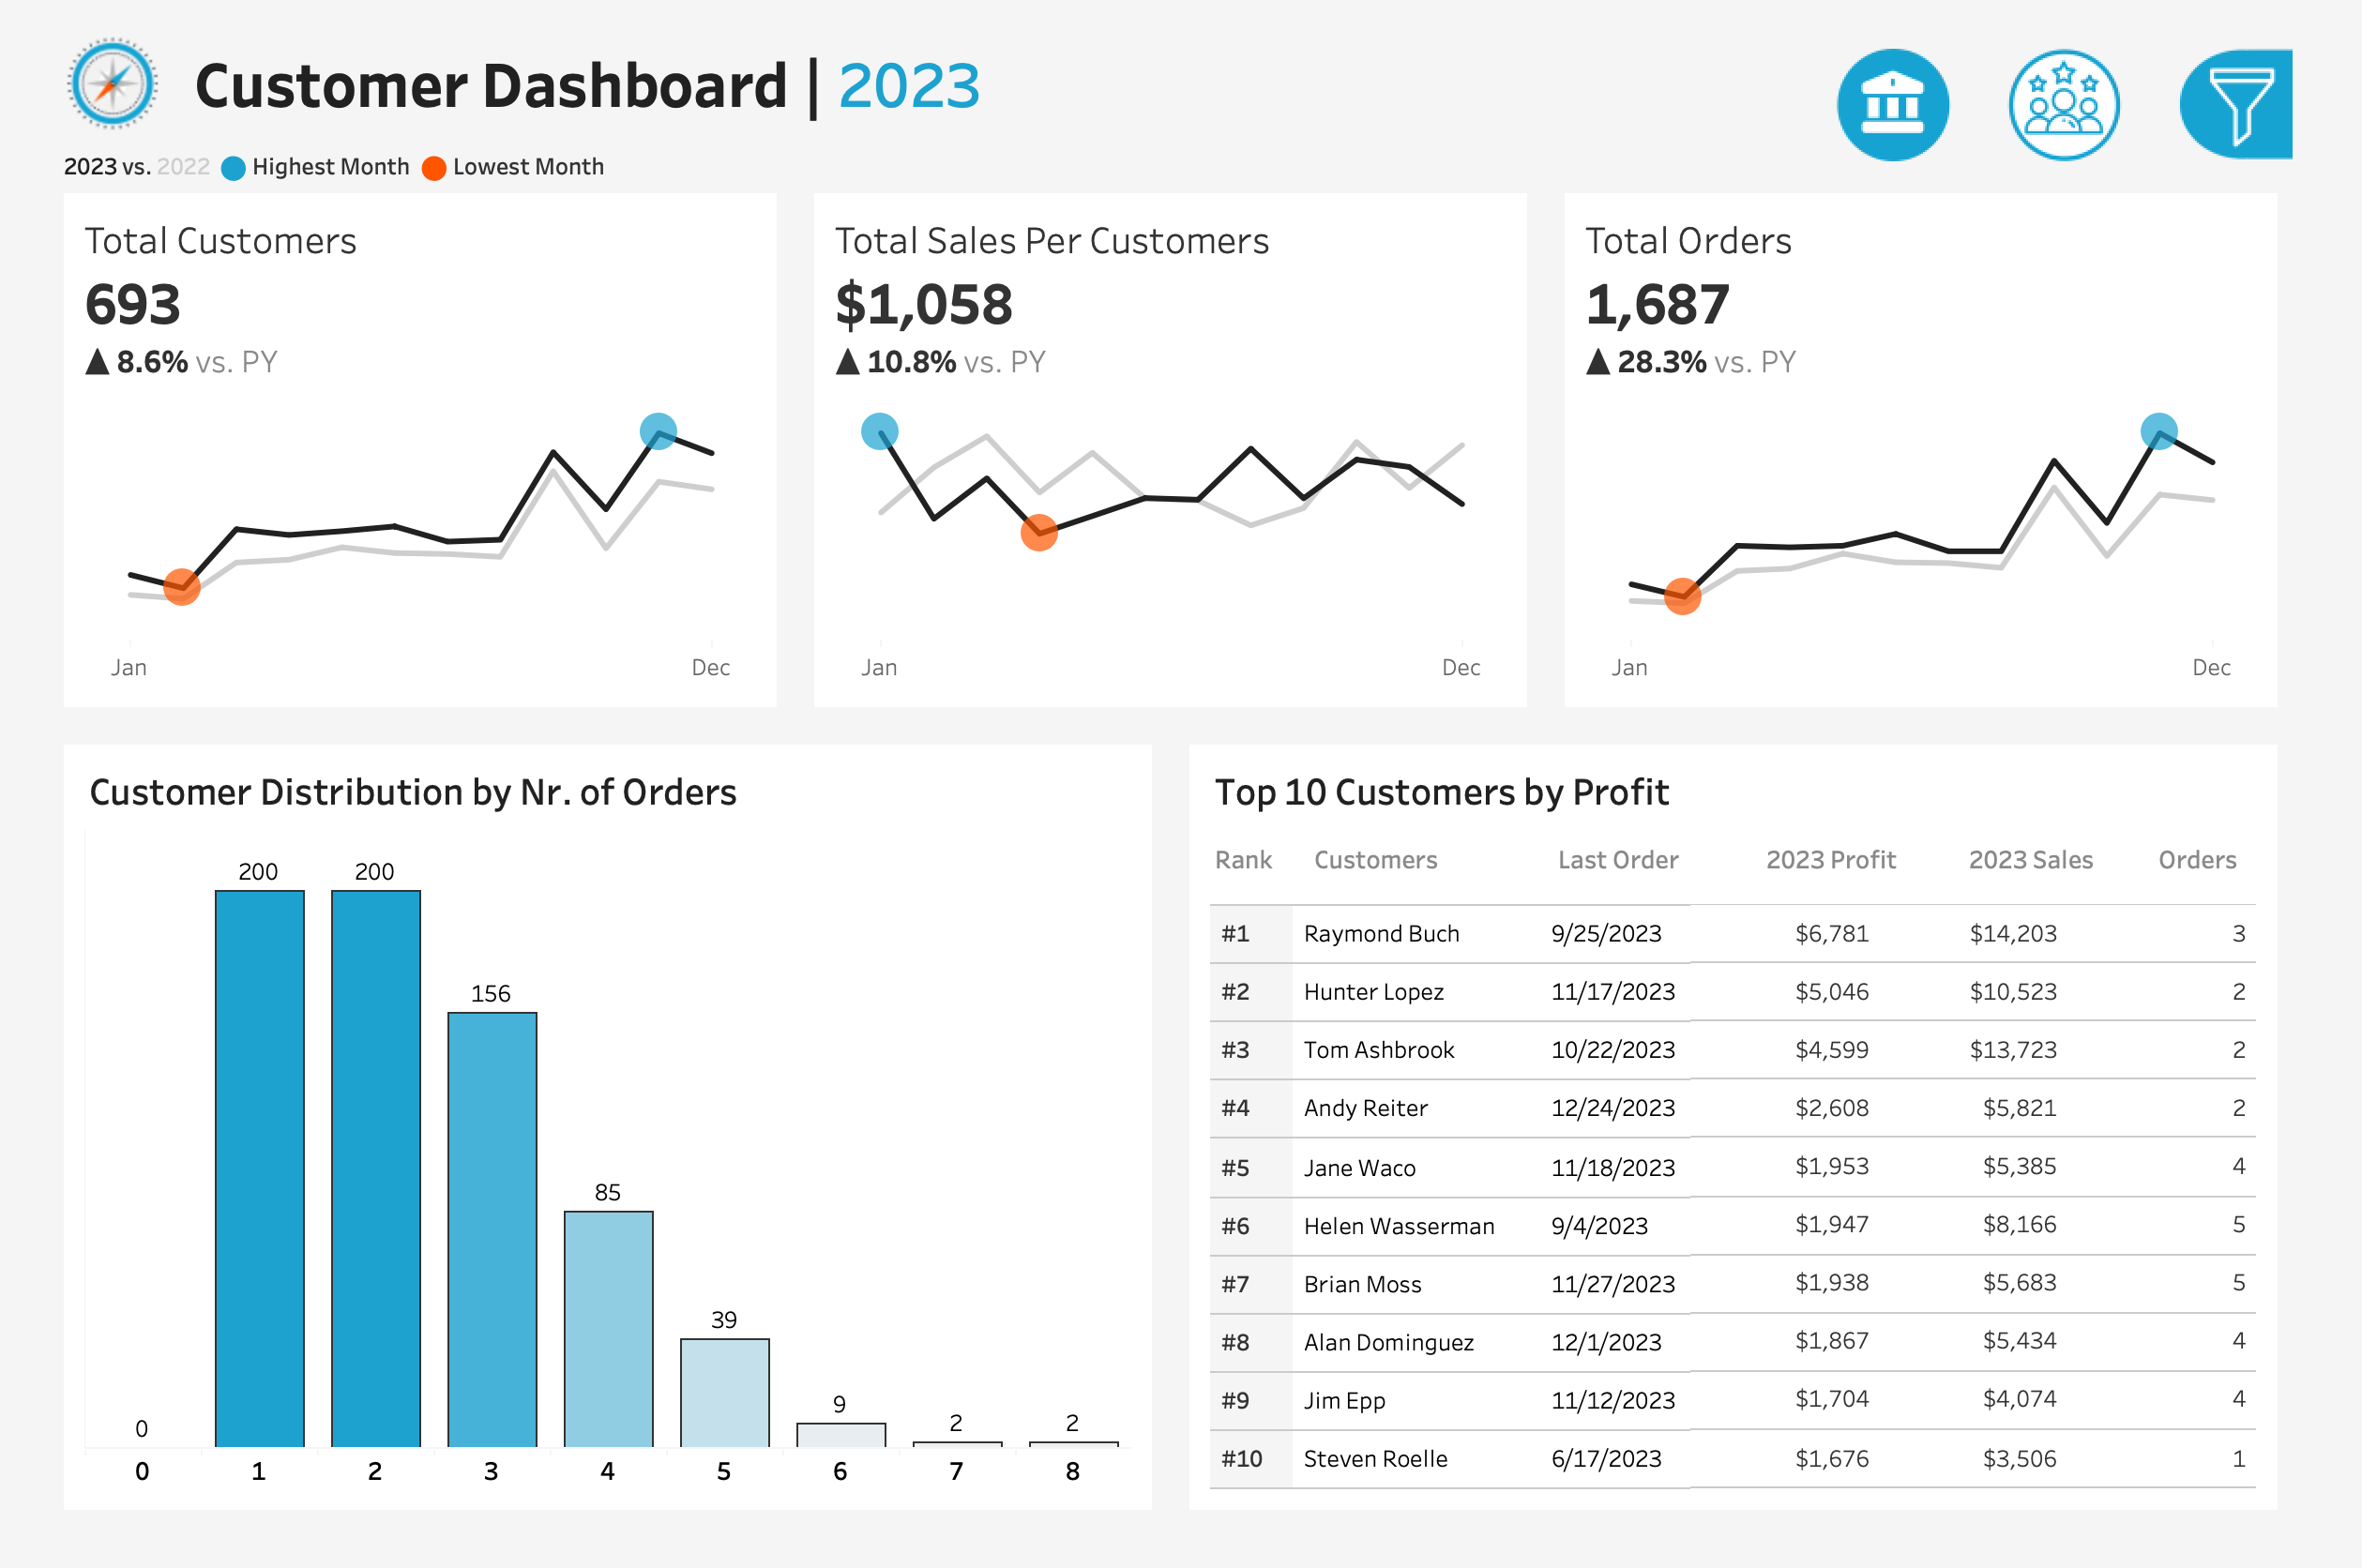

This screenshot's page, from the dashboard's own definition file:
{"tool":"tableau","page":{"name":"Customer Dashboard","canvas":[1200,800],"ordinal":0},"visuals":[{"type":"image","param":"Image/Icon - Logo.png","box":[0,0,73,59]},{"type":"text","box":[73,0,820,59]},{"type":"dashboard-object","box":[940,6,91,70]},{"type":"dashboard-object","box":[1031,6,91,70]},{"type":"blank","box":[952,10,237,86]},{"type":"worksheet","title":"Legend KPI","mark":"Automatic","box":[0,59,1200,29]},{"type":"worksheet","title":"KPI Customers","mark":"Automatic","rows":["Min/Max Quantity (copy)_3221481164588691468"],"cols":["Order Date"],"box":[0,88,400,284]},{"type":"worksheet","title":"KPI Sales Per Customers","mark":"Automatic","rows":["Min/Max Quantity (copy)_3221481164537155591"],"cols":["Order Date"],"box":[400,88,400,284]},{"type":"worksheet","title":"KPI Orders","mark":"Automatic","rows":["Min/Max Sales (copy)_3221481164601258003"],"cols":["Order Date"],"box":[800,88,400,284]},{"type":"text","box":[952,96,237,37]},{"type":"parameter","param":"[Parameters].[Parameter 1]","box":[952,133,237,55]},{"type":"text","box":[952,188,237,32]},{"type":"filter","title":"KPI Customers","param":"[federated.1kpxa041aiai2y1cl4pui1t4eju9].[none:Category:nk]","box":[952,220,237,57]},{"type":"filter","title":"KPI Customers","param":"[federated.1kpxa041aiai2y1cl4pui1t4eju9].[none:Sub-Category:nk]","box":[952,277,237,57]},{"type":"blank","box":[952,334,237,60]},{"type":"text","box":[17,389,566,34]},{"type":"text","box":[617,389,566,34]},{"type":"text","box":[952,394,237,32]},{"type":"worksheet","title":"Customer Distribution","mark":"Bar","rows":["CY Sales (copy)_3221481164532666369"],"cols":["Calculation_998110323739992064"],"box":[17,423,566,360]},{"type":"text","box":[617,423,53,40]},{"type":"text","box":[670,423,130,40]},{"type":"text","box":[800,423,111,40]},{"type":"text","box":[911,423,108,40]},{"type":"text","box":[1019,423,101,40]},{"type":"text","box":[1120,423,63,40]},{"type":"filter","title":"KPI Customers","param":"[federated.1kpxa041aiai2y1cl4pui1t4eju9].[none:Region:nk]","box":[952,426,237,57]},{"type":"worksheet","title":"Top Customers","mark":"Automatic","rows":["Calculation_782500491678904334","Customer Name","Order Date"],"box":[617,463,566,320]},{"type":"filter","title":"KPI Customers","param":"[federated.1kpxa041aiai2y1cl4pui1t4eju9].[none:State:nk]","box":[952,483,237,57]},{"type":"filter","title":"KPI Customers","param":"[federated.1kpxa041aiai2y1cl4pui1t4eju9].[none:City:nk]","box":[952,540,237,57]}]}

Visuals, with their boxes in screenshot pixels (x1, y1, x2, y2), scaled from the page's 1200x800 canvas onto the 2362x1568 screenshot:
image: [x1=0, y1=0, x2=144, y2=115]
text: [x1=144, y1=0, x2=1758, y2=115]
dashboard-object: [x1=1850, y1=12, x2=2029, y2=149]
dashboard-object: [x1=2029, y1=12, x2=2208, y2=149]
blank: [x1=1874, y1=20, x2=2340, y2=188]
"Legend KPI" worksheet: [x1=0, y1=115, x2=2361, y2=173]
"KPI Customers" worksheet: [x1=0, y1=173, x2=787, y2=729]
"KPI Sales Per Customers" worksheet: [x1=787, y1=173, x2=1575, y2=729]
"KPI Orders" worksheet: [x1=1575, y1=173, x2=2361, y2=729]
text: [x1=1874, y1=188, x2=2340, y2=261]
parameter: [x1=1874, y1=261, x2=2340, y2=369]
text: [x1=1874, y1=369, x2=2340, y2=431]
"KPI Customers" filter: [x1=1874, y1=431, x2=2340, y2=543]
"KPI Customers" filter: [x1=1874, y1=543, x2=2340, y2=655]
blank: [x1=1874, y1=655, x2=2340, y2=772]
text: [x1=34, y1=762, x2=1147, y2=829]
text: [x1=1215, y1=762, x2=2328, y2=829]
text: [x1=1874, y1=772, x2=2340, y2=835]
"Customer Distribution" worksheet (Bar marks): [x1=34, y1=829, x2=1147, y2=1534]
text: [x1=1215, y1=829, x2=1319, y2=908]
text: [x1=1319, y1=829, x2=1575, y2=908]
text: [x1=1575, y1=829, x2=1794, y2=908]
text: [x1=1794, y1=829, x2=2006, y2=908]
text: [x1=2006, y1=829, x2=2204, y2=908]
text: [x1=2204, y1=829, x2=2328, y2=908]
"KPI Customers" filter: [x1=1874, y1=835, x2=2340, y2=946]
"Top Customers" worksheet: [x1=1215, y1=908, x2=2328, y2=1534]
"KPI Customers" filter: [x1=1874, y1=946, x2=2340, y2=1059]
"KPI Customers" filter: [x1=1874, y1=1059, x2=2340, y2=1170]
